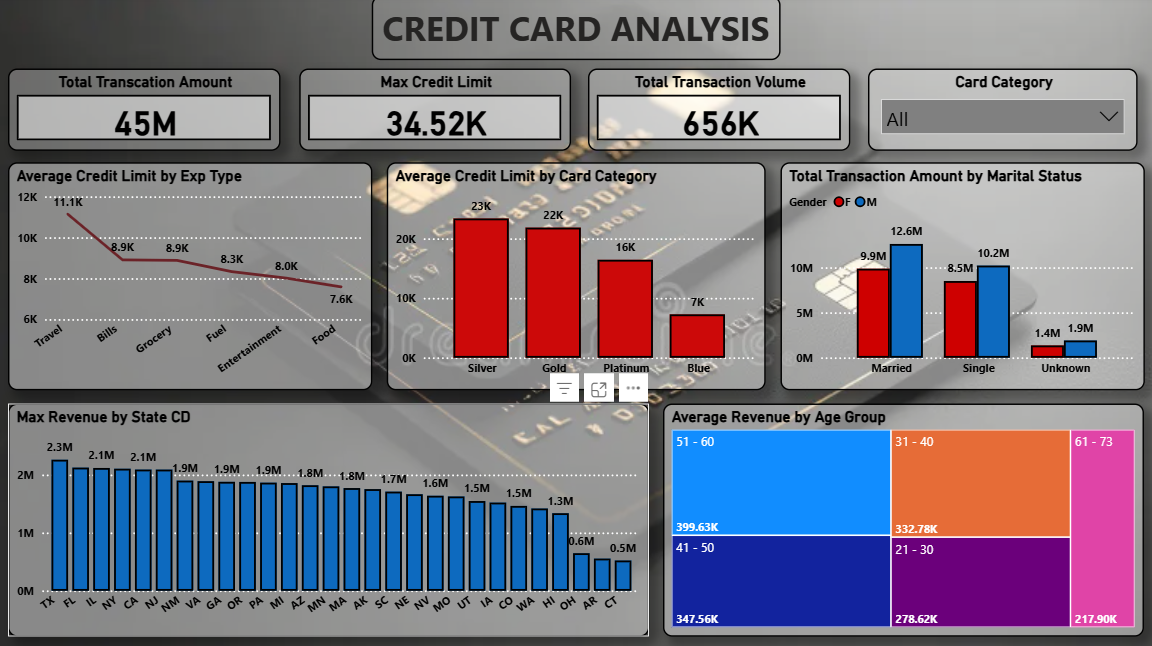

This screenshot's page, from the dashboard's own definition file:
{"tool":"powerbi","page":{"name":"Card Analysis","canvas":[1280,720],"ordinal":0},"visuals":[{"type":"textbox","box":[416,0,449,70],"z":0},{"type":"cardVisual","title":"Total Transcation Amount","fields":{"Data":["Sum(credit_card (2).Total_Trans_Amt)"]},"box":[16,80,299,90],"z":1000},{"type":"cardVisual","title":"Max Credit Limit","fields":{"Data":["Max(credit_card (2).Credit_Limit)"]},"box":[336,80,298,90],"z":2000},{"type":"cardVisual","title":"Total Transaction Volume","fields":{"Data":["Sum(credit_card (2).Total_Trans_Vol)"]},"box":[653,80,288,90],"z":3000},{"type":"slicer","title":"Card Category","fields":{"Values":["credit_card (2).Card_Category"]},"box":[960,80,296,90],"z":4000},{"type":"lineChart","title":"Average Credit Limit by Exp Type","fields":{"Category":["credit_card (2).Exp Type"],"Y":["Avg(credit_card (2).Credit_Limit)"]},"box":[16,183,400,250],"z":5000},{"type":"columnChart","title":"Average Credit Limit by Card Category","fields":{"Category":["credit_card (2).Card_Category"],"Y":["Avg(credit_card (2).Credit_Limit)"]},"box":[432,183,416,250],"z":6000},{"type":"clusteredColumnChart","title":"Total Transaction Amount by Marital Status ","fields":{"Y":["Sum(credit_card (2).Total_Trans_Amt)"],"Series":["customer.Gender"],"Category":["customer.Marital_Status"]},"box":[864,183,400,250],"z":7000},{"type":"columnChart","title":"Max Revenue by State CD","fields":{"Y":["Max(credit_card (2).Revenue)"],"Category":["customer.state_cd"]},"box":[16,448,704,256],"z":8000},{"type":"treemap","title":"Average Revenue by Age Group","fields":{"Group":["customer.Customer_Age Group (bins)"],"Values":["Avg(credit_card (2).Revenue)"]},"box":[736,448,528,256],"z":9000}]}

Visuals, with their boxes in screenshot pixels (x1, y1, x2, y2), scaled from the page's 1280x720 canvas onto the 1152x646 screenshot:
textbox: rect(374, 0, 778, 63)
"Total Transcation Amount" cardVisual: rect(14, 72, 284, 153)
"Max Credit Limit" cardVisual: rect(302, 72, 571, 153)
"Total Transaction Volume" cardVisual: rect(588, 72, 847, 153)
"Card Category" slicer: rect(864, 72, 1130, 153)
"Average Credit Limit by Exp Type" lineChart: rect(14, 164, 374, 388)
"Average Credit Limit by Card Category" columnChart: rect(389, 164, 763, 388)
"Total Transaction Amount by Marital Status " clusteredColumnChart: rect(778, 164, 1138, 388)
"Max Revenue by State CD" columnChart: rect(14, 402, 648, 632)
"Average Revenue by Age Group" treemap: rect(662, 402, 1138, 632)
